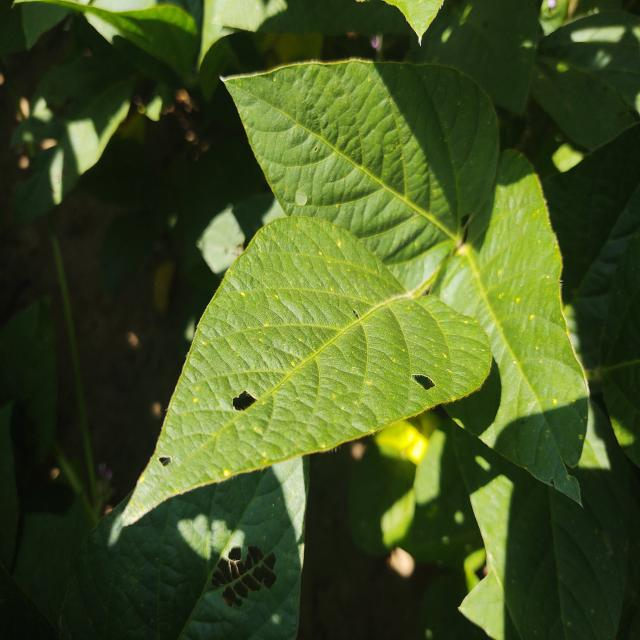Soybean: (0, 0, 640, 640)
downey_mildew: (399, 62, 501, 246), (469, 156, 565, 323), (29, 25, 140, 139), (170, 491, 254, 640), (550, 500, 628, 638), (533, 55, 640, 152), (303, 211, 412, 304), (487, 390, 588, 486), (574, 206, 639, 341), (204, 463, 295, 555), (231, 73, 327, 160), (444, 415, 527, 515), (319, 262, 393, 369), (336, 174, 436, 252), (97, 537, 176, 635), (351, 303, 420, 414), (248, 306, 309, 422), (543, 10, 640, 78), (316, 72, 383, 169), (154, 401, 231, 468), (277, 303, 332, 395), (110, 3, 199, 53), (411, 425, 454, 510), (174, 502, 228, 566)
